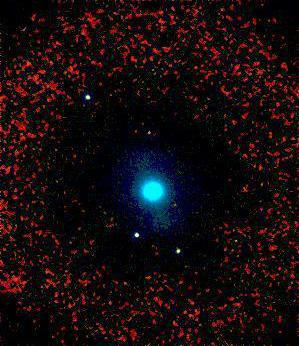star: (135, 120, 165, 150)
